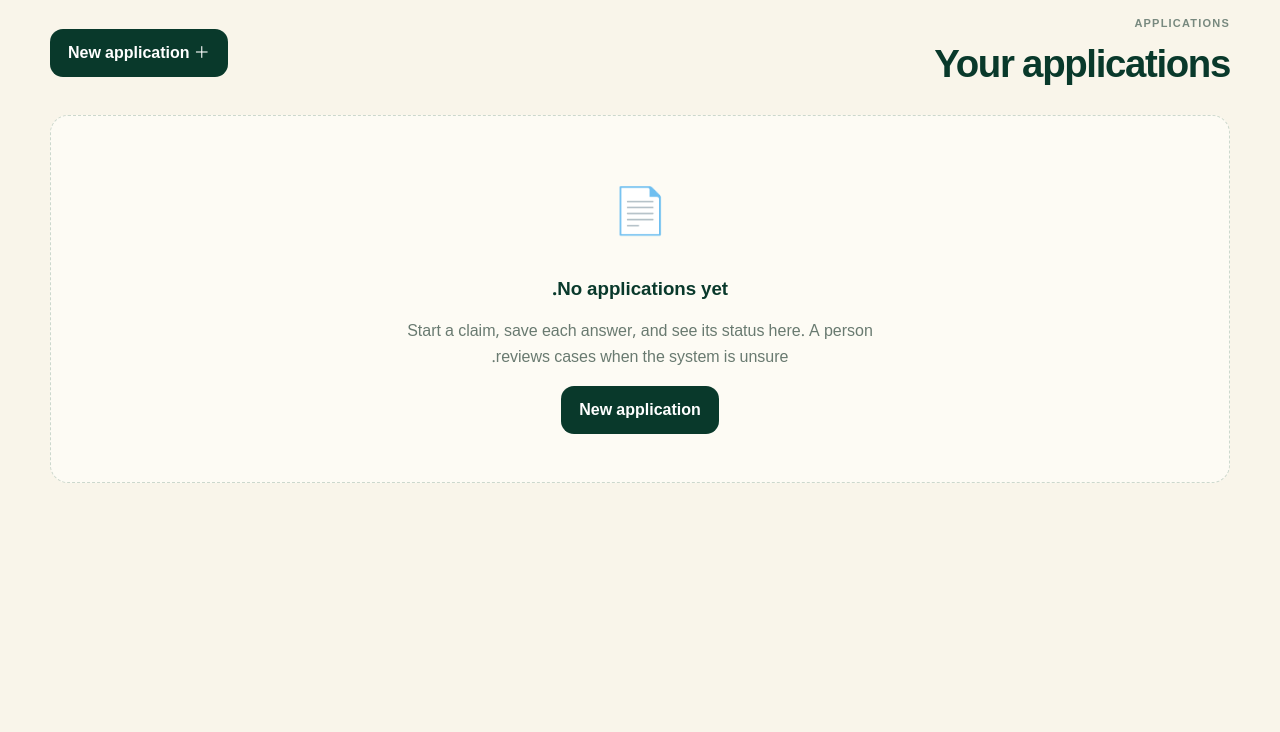
Scenario: citizen application journey › starts a local claim offline and stores answers until the create operation can sync
Later steps or results of the test are not shown.
Step 1. Click the button "＋ New application" → (139, 53), box [50,29,228,77]
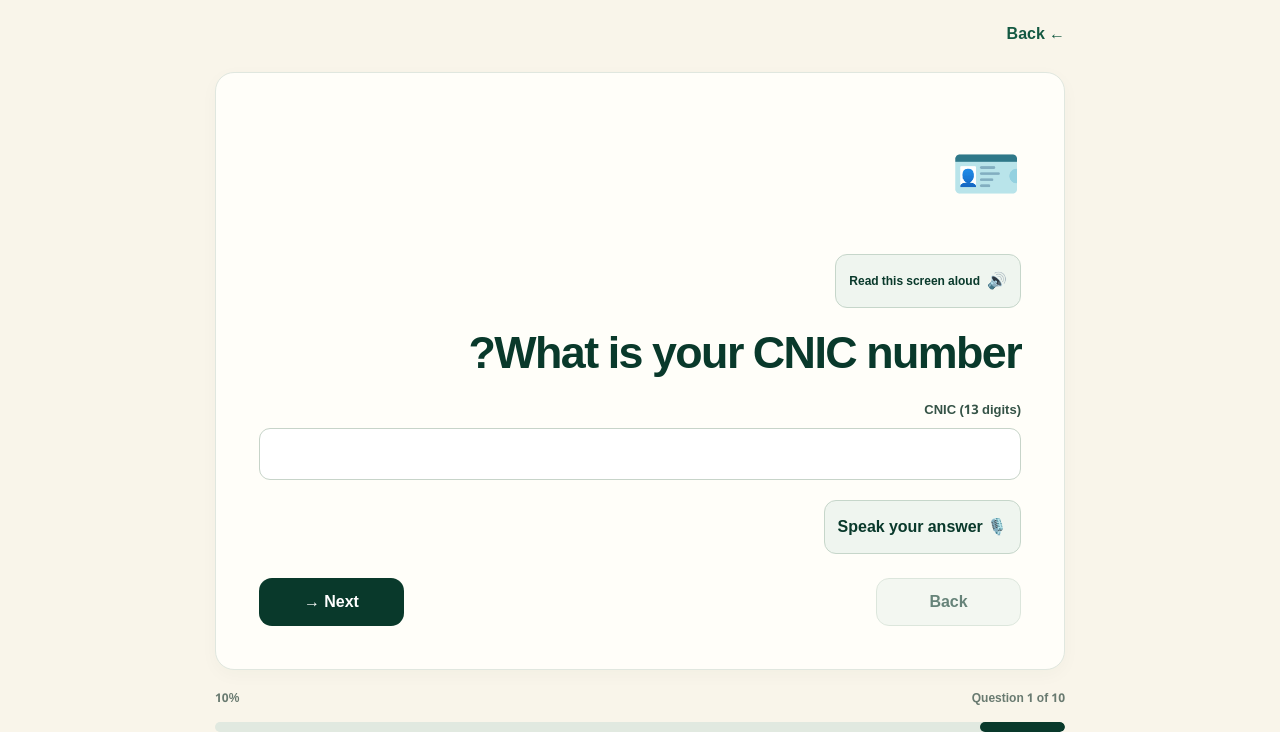
Result: the heading "What is your CNIC number?" is shown at [469,306,1021,401]
